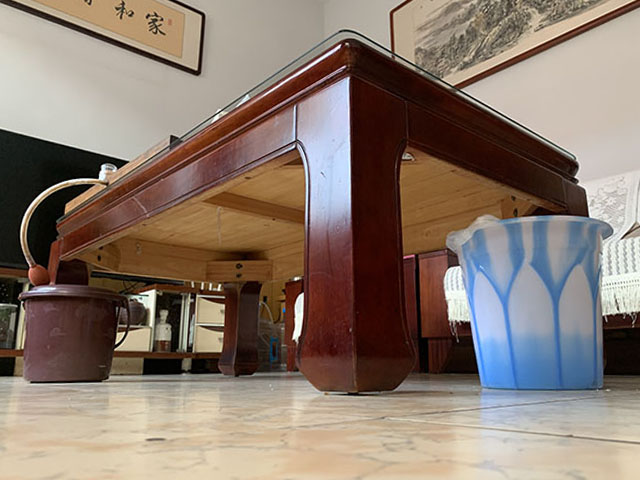table: (43, 26, 591, 397)
trashcan: (444, 213, 615, 391), (16, 286, 128, 384)
